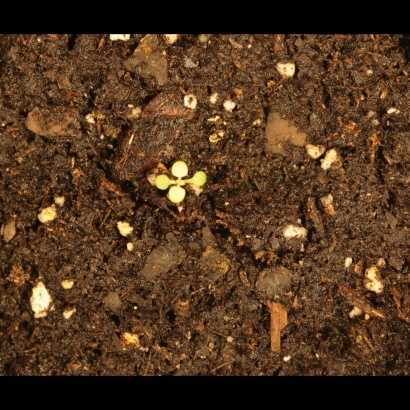leaf: (169, 156, 192, 179), (187, 170, 210, 193), (167, 184, 190, 207), (154, 172, 177, 195)
